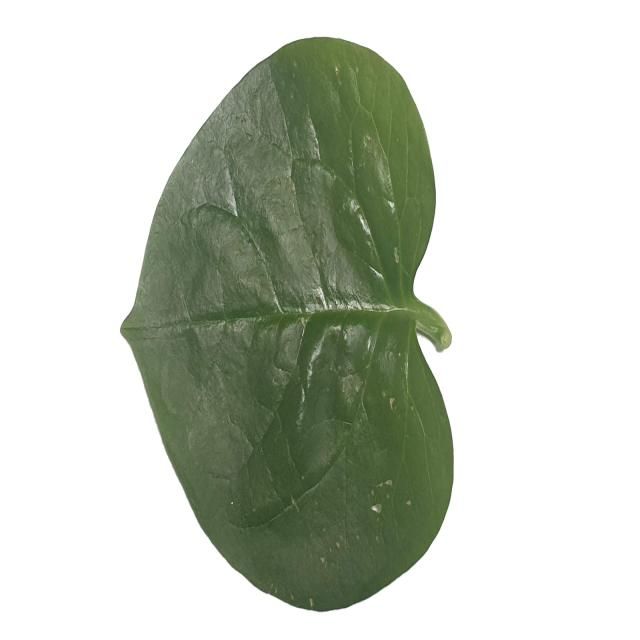Medicinal-Basale: (120, 35, 454, 613)
